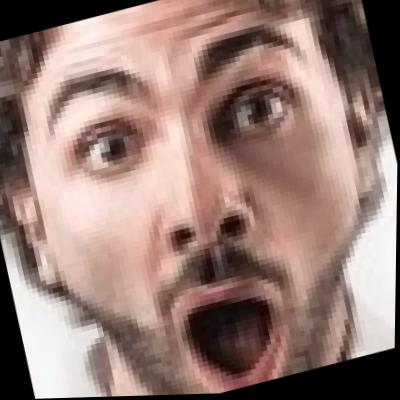surprise: (6, 0, 400, 400)
